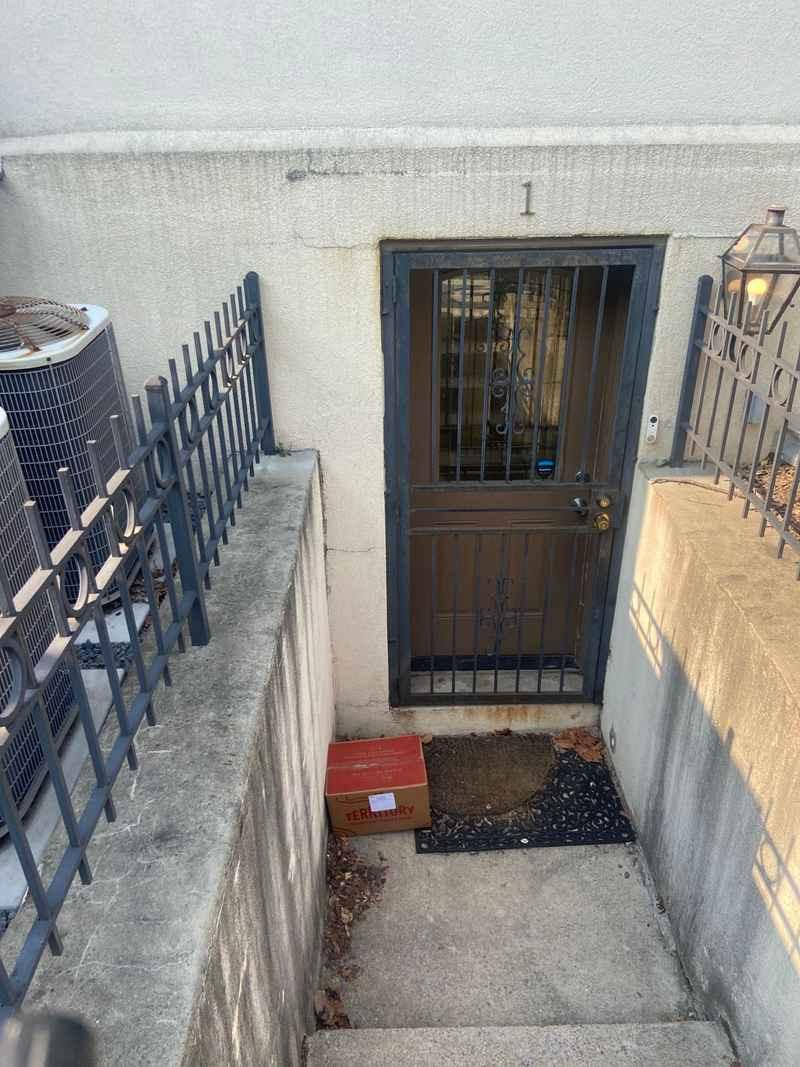package: (319, 729, 437, 835)
